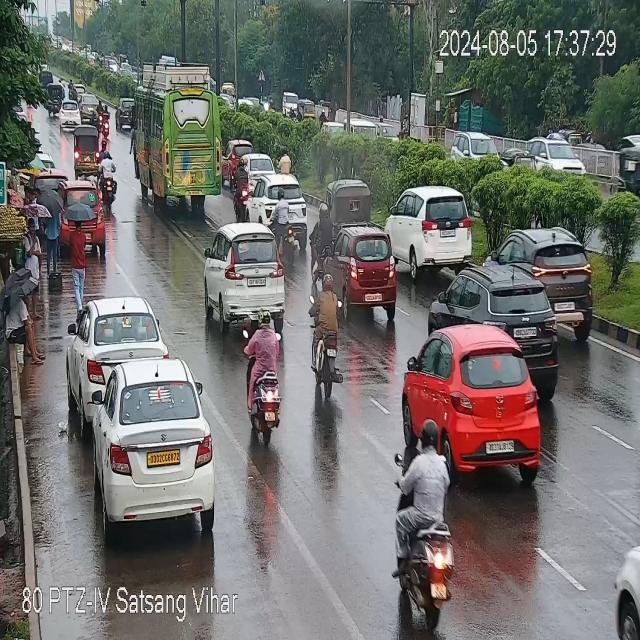2-wheelers: (393, 416, 456, 554), (242, 302, 288, 442), (310, 274, 346, 399), (274, 183, 299, 273), (97, 150, 120, 208), (95, 102, 112, 138)
auto: (331, 181, 372, 227), (74, 124, 104, 174), (623, 132, 640, 210), (44, 82, 68, 116)
bus: (132, 61, 230, 208)
car: (395, 320, 547, 486), (92, 356, 221, 527), (423, 268, 564, 360), (483, 230, 600, 336), (68, 296, 162, 400), (206, 222, 294, 324), (386, 182, 475, 269), (326, 229, 401, 324), (58, 178, 107, 262), (526, 129, 587, 191), (250, 178, 316, 233), (610, 520, 640, 638), (452, 124, 503, 170), (243, 154, 276, 180), (59, 100, 83, 135), (78, 94, 106, 118), (118, 96, 136, 130)
pedestrian: (2, 276, 47, 369), (20, 202, 47, 322), (64, 218, 92, 311), (43, 187, 63, 282)
